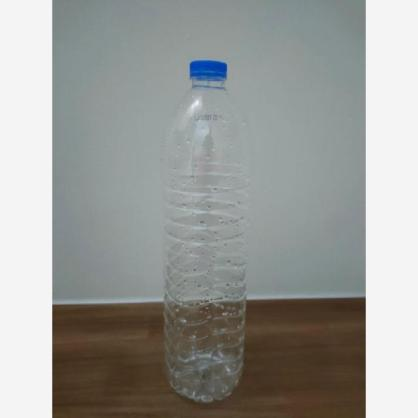bottle: (163, 60, 250, 404)
cap: (186, 60, 229, 84)
